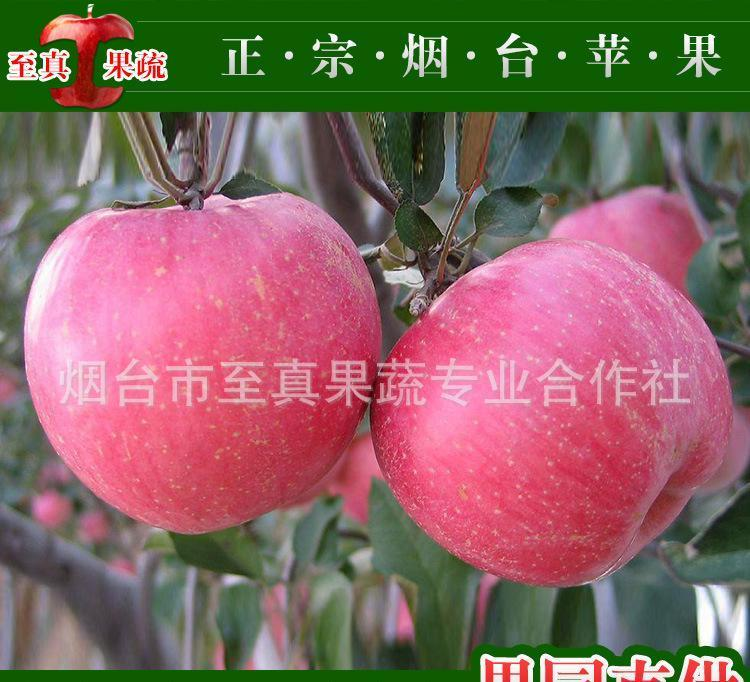apple: (362, 241, 734, 593), (22, 176, 385, 529)
